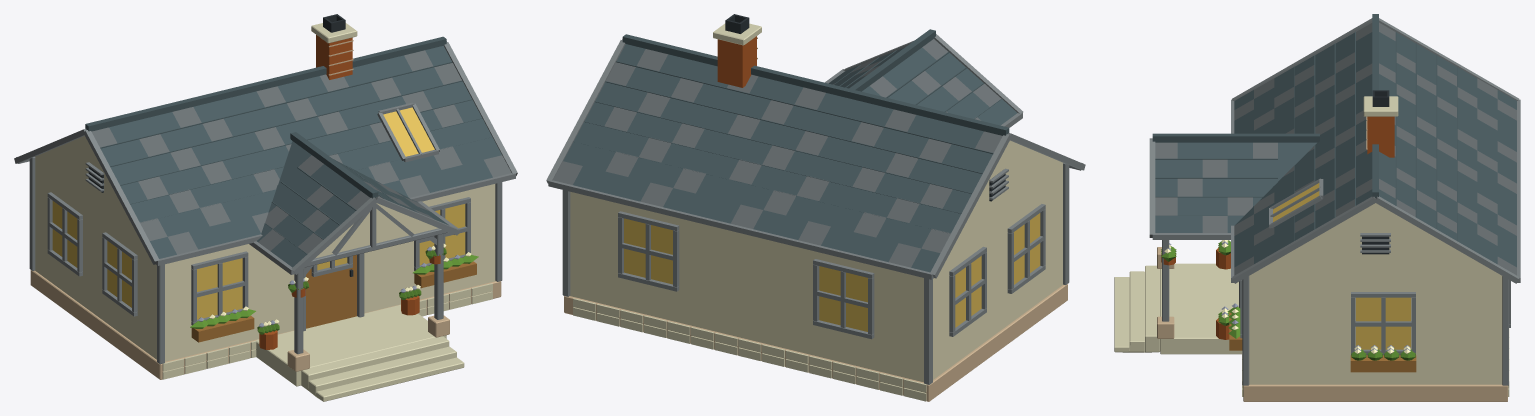
Rendered from House_A_Lv2_LOD0.fbx.
3 renders of one model, left to right at view 1: azimuth 30°, elevation 25°; view 2: azimuth 150°, elevation 25°; view 3: azimuth 270°, elevation 25°, orthographic. The views are drawn at different scales.
Parts seen in each view (by area): view 1: House_A_Lv2_High; view 2: House_A_Lv2_High; view 3: House_A_Lv2_High.
Boxes of the visible parts, x1,y1,x2,y2 form: House_A_Lv2_High: [14, 14, 517, 401]; House_A_Lv2_High: [546, 14, 1085, 401]; House_A_Lv2_High: [1114, 14, 1520, 401].
Bounding box in the file's own units: 14.09 × 9.35 × 13.29.
